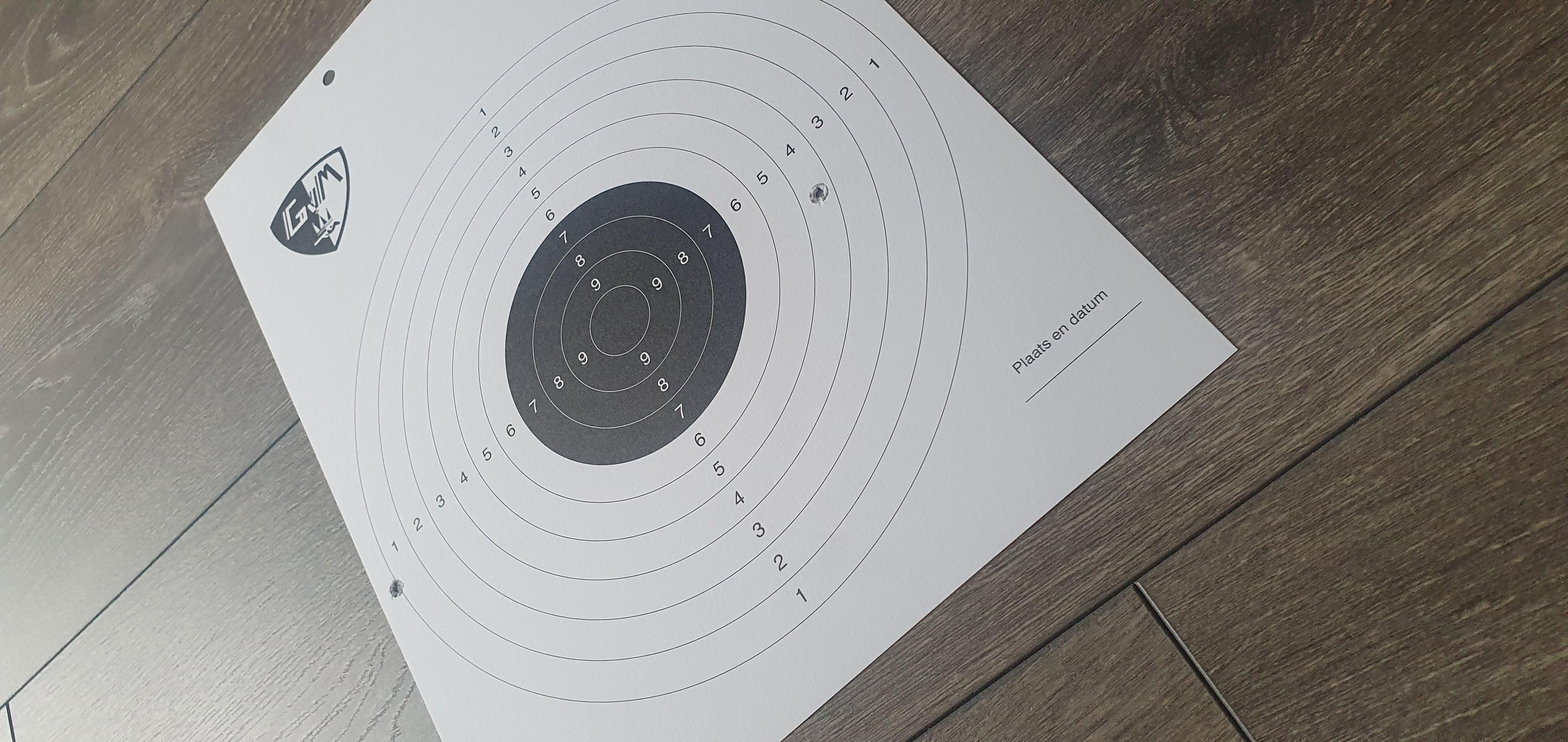hole: (1132, 382, 1182, 392), (301, 183, 350, 192)
